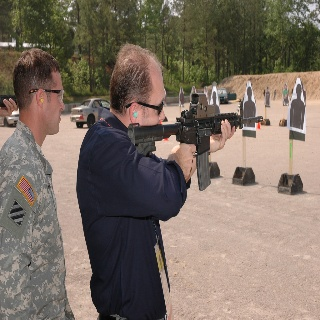rifle: (125, 93, 264, 194)
